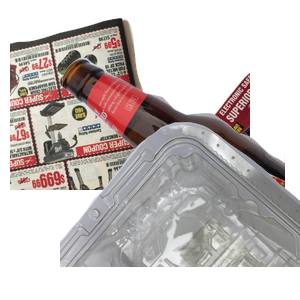glass: (60, 56, 300, 236)
paper: (10, 15, 250, 195)
plastic: (60, 120, 300, 300)
trash: (84, 133, 292, 300)
